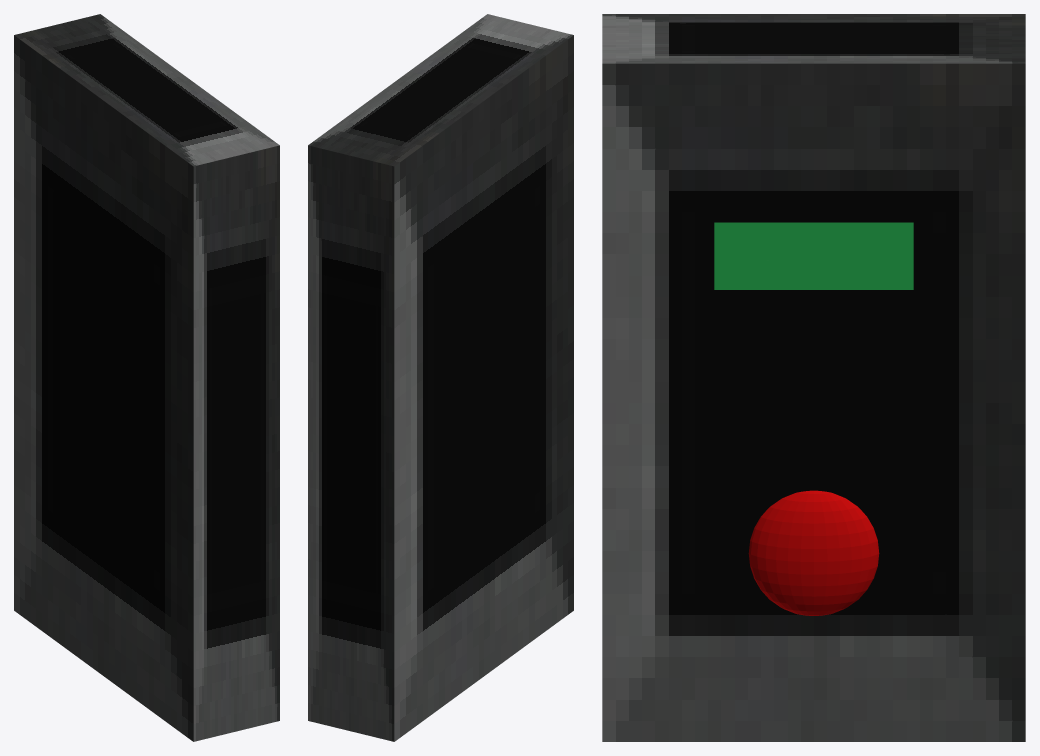
Rendered from scp_button.glb.
3 views of the same model, side by side, from view 1: azimuth 30°, elevation 25°; view 2: azimuth 150°, elevation 25°; view 3: azimuth 270°, elevation 25° (orthographic). The views are drawn at different scales.
Parts seen in each view (by area): view 1: Object_3; view 2: Object_3; view 3: Object_3, Object_4, Object_2.
Part boxes in pixels (x1,y1,x2,y2): Object_3: (14,14,279,741); Object_3: (308,14,573,741); Object_3: (602,14,1025,741); Object_4: (714,222,913,289); Object_2: (748,490,879,615).
Bounding box in the file's own units: 0.1136 × 0.6143 × 0.3473.
Materials: 3 (3 with a texture image).
